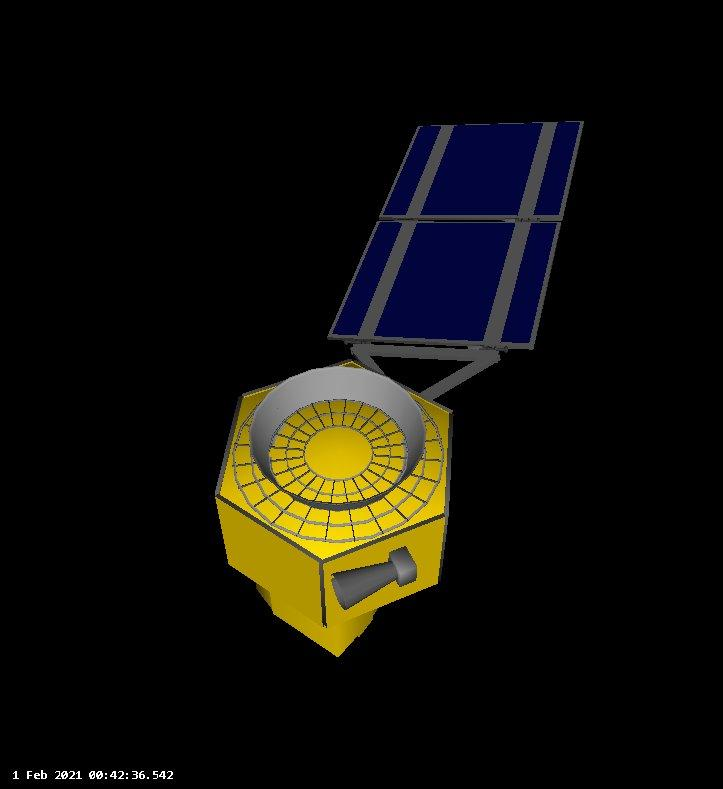body: (211, 361, 455, 656)
solar: (326, 116, 586, 351)
thruster: (250, 366, 427, 509), (330, 561, 398, 610)
